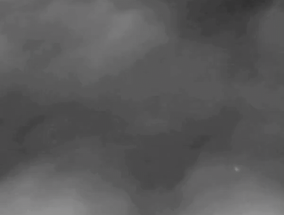Target: (235, 167, 237, 170)
